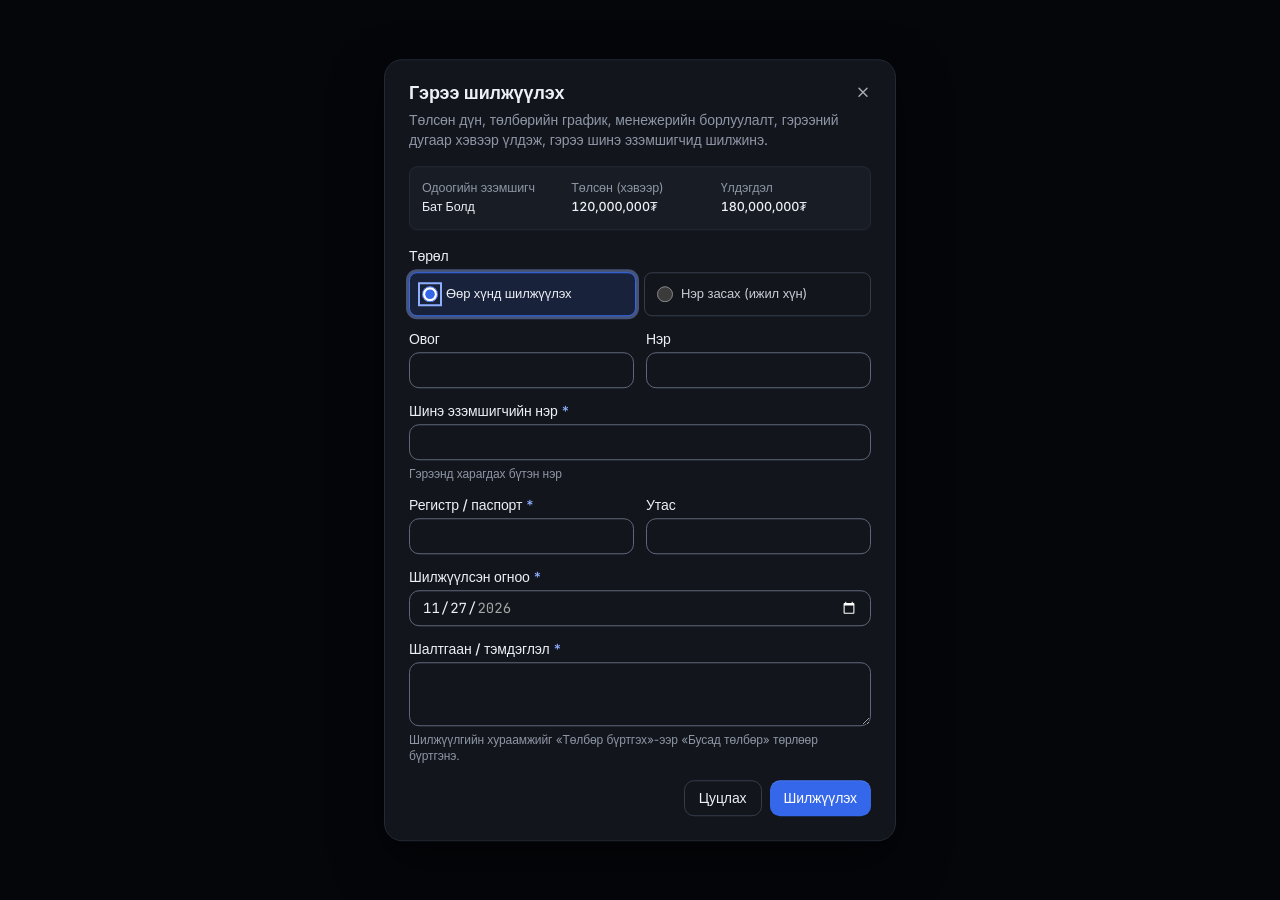
Test case: ContractTransferDialog › shows the current holder and money that stays, and validates before sending
Expected: the dialog "Гэрээ шилжүүлэх" shows "Бат Болд", [422, 199, 475, 214]
Click the button "Шилжүүлэх" at (820,798), box [770, 780, 871, 816]
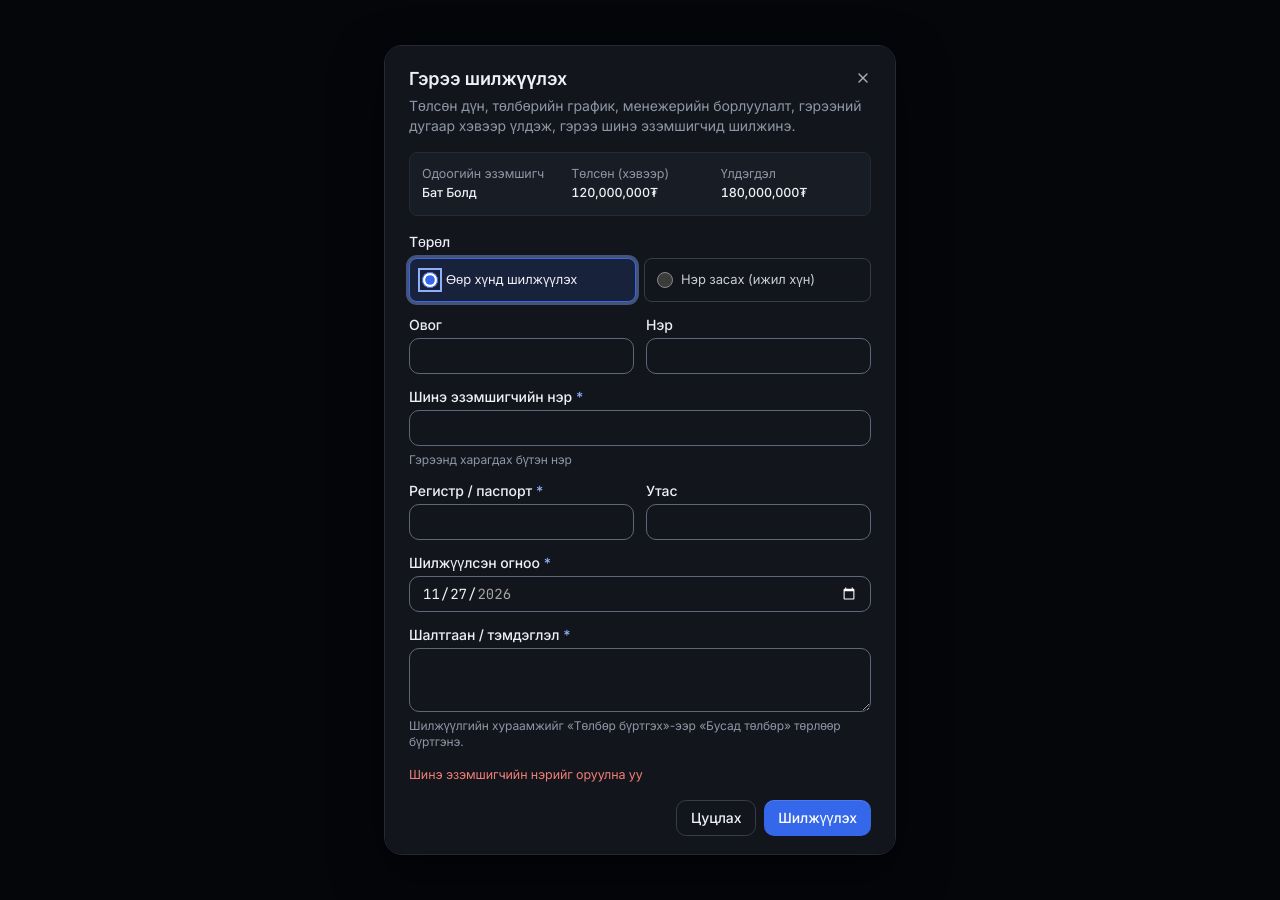
Result: the message reads "Шинэ эзэмшигчийн нэрийг оруулна уу" at [409, 766, 643, 782]
Type "Дорж" into the field labelled "Овог" at (522,356), box [409, 338, 634, 374]
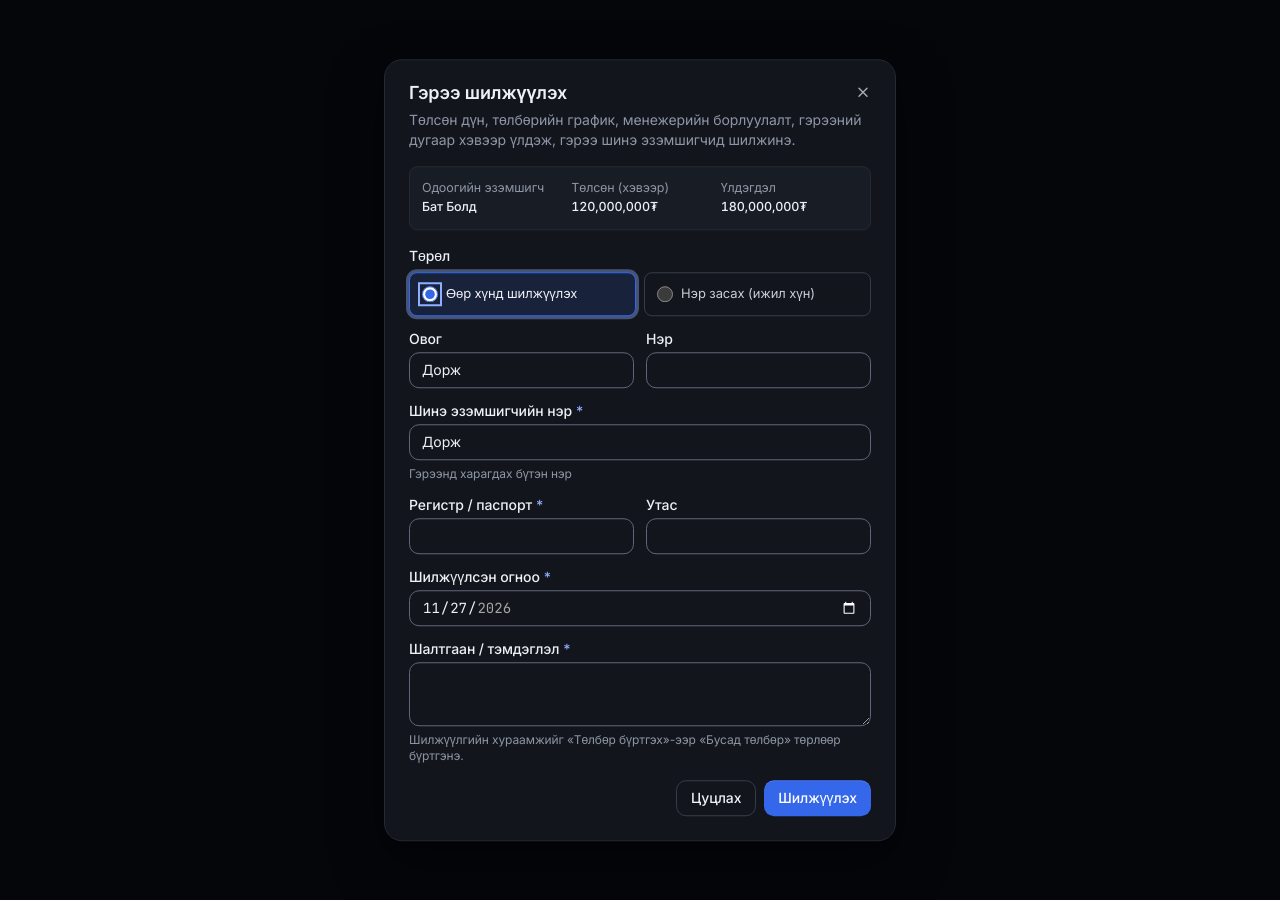
Type "Сараа" into the field labelled "Нэр" at (758,370), box [646, 352, 871, 388]
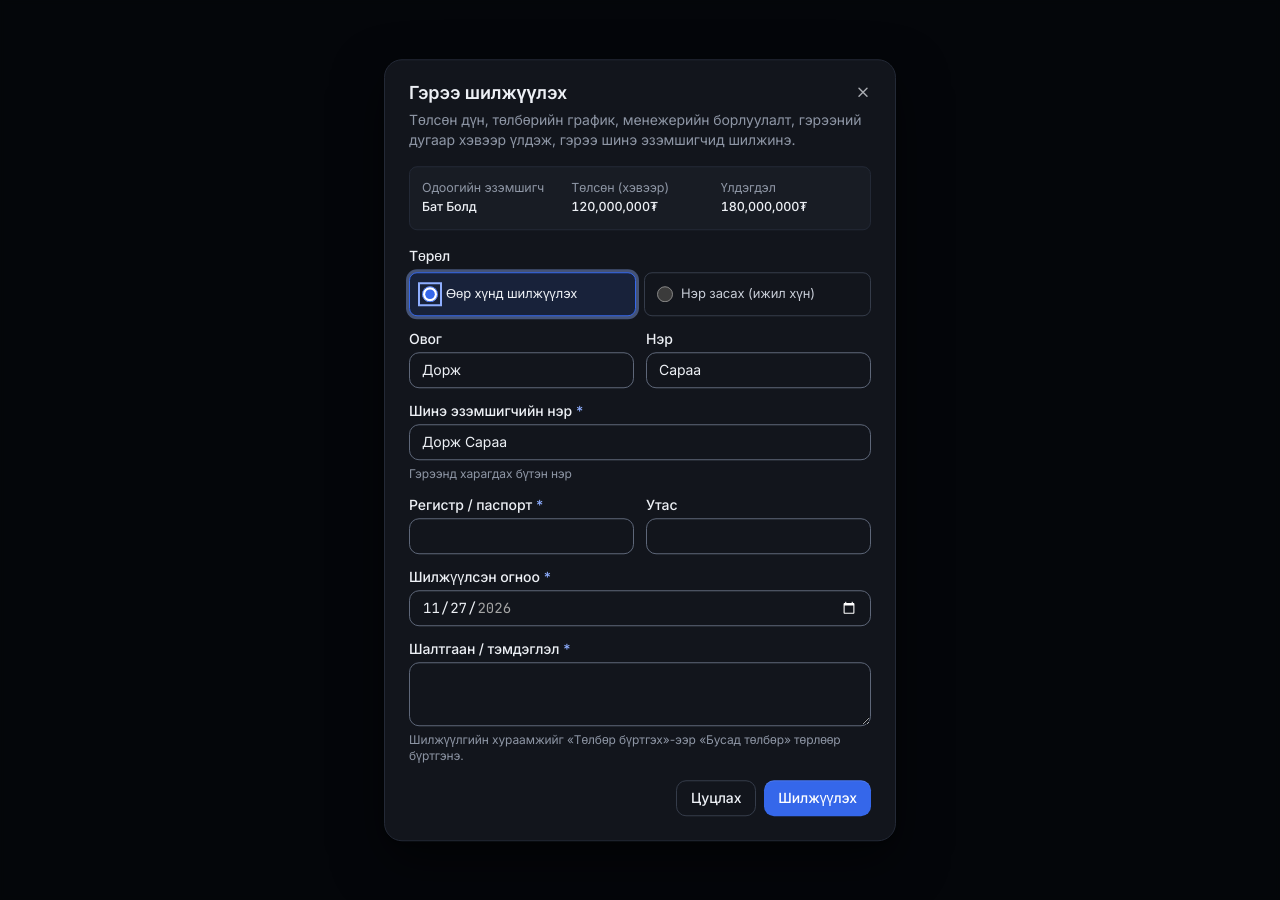
Result: the field labelled "Шинэ эзэмшигчийн нэр *" holds "Дорж Сараа" at [409, 424, 871, 460]
Click the button "Шилжүүлэх" at (818,798), box [764, 780, 871, 816]
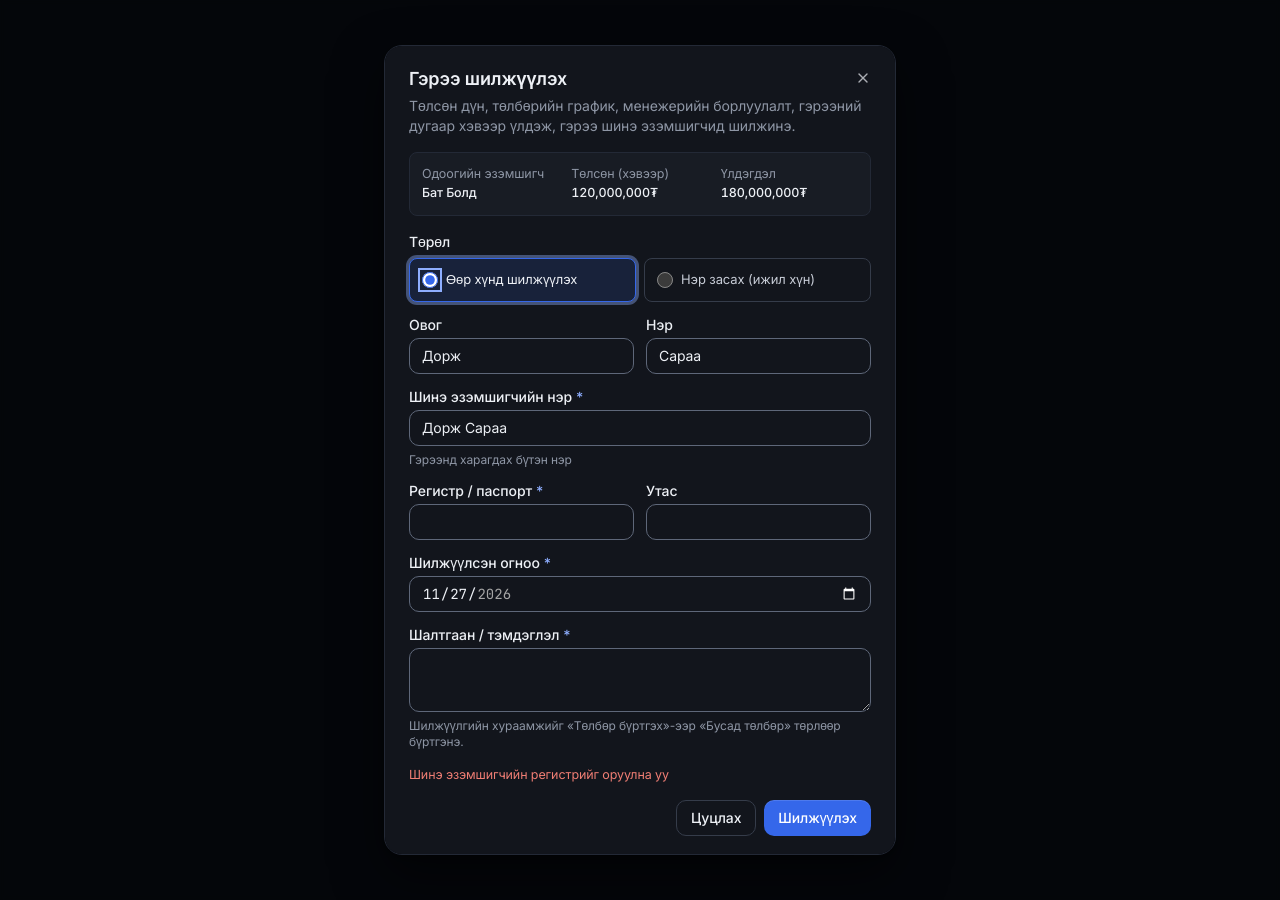
Result: the message reads "Шинэ эзэмшигчийн регистрийг оруулна уу" at [409, 766, 669, 782]
